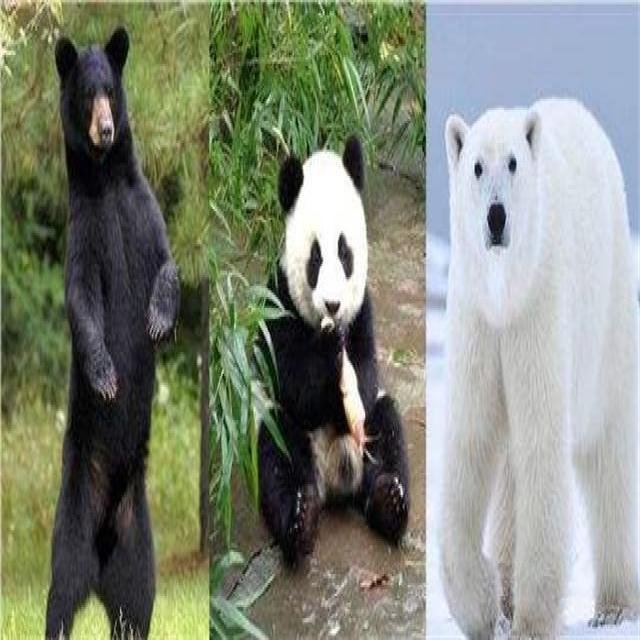panda: (251, 131, 413, 573)
